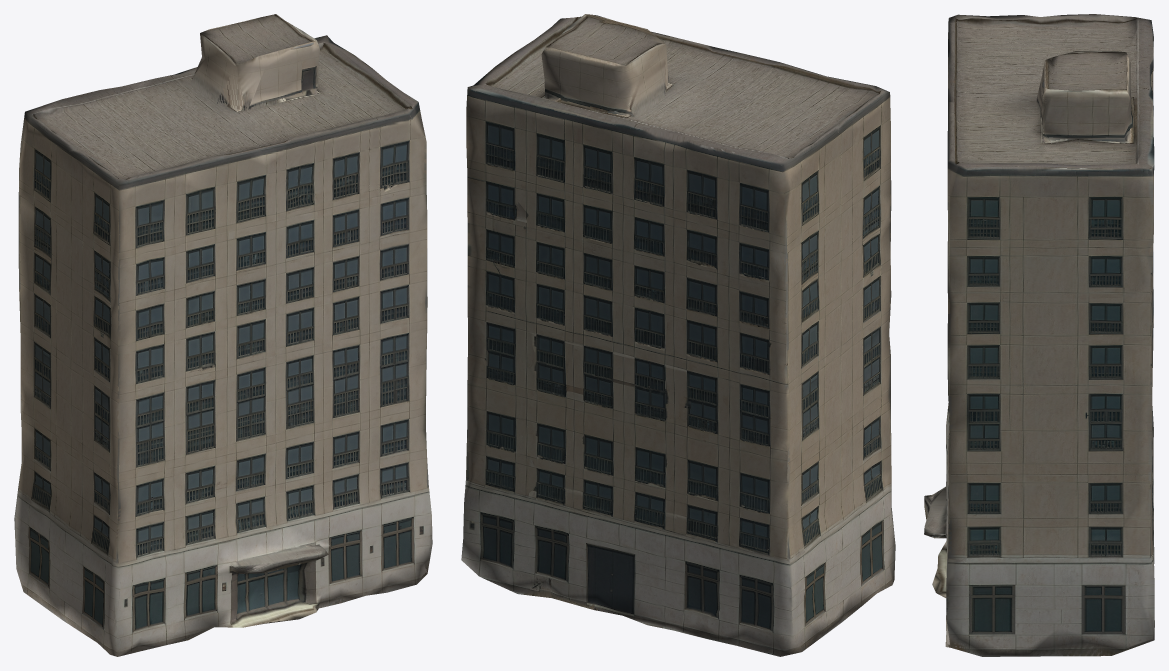
The model's file is KR_Officetel_01_Lod.glb.
3 renders of one model, left to right at view 1: azimuth 30°, elevation 25°; view 2: azimuth 150°, elevation 25°; view 3: azimuth 270°, elevation 25°, orthographic. The views are drawn at different scales.
Visible parts, largest first — view 1: texture_mapping; view 2: texture_mapping; view 3: texture_mapping.
Part boxes in pixels (x1,y1,x2,y2): texture_mapping: (14,14,432,656); texture_mapping: (461,14,895,656); texture_mapping: (924,14,1154,656).
Bounding box in the file's own units: 0.6388 × 1 × 0.3911.
1 material, 1 textured.
